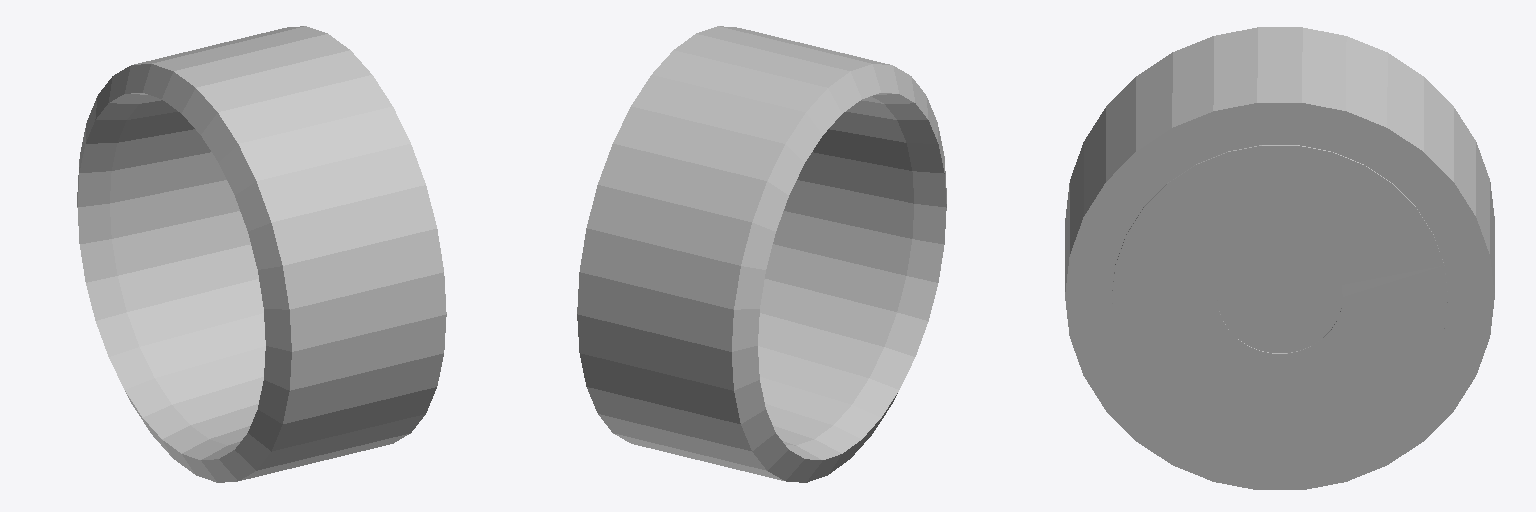
File: cerchionePosteriore1A.obj
The picture shows the model from 3 angles: view 1: azimuth 30°, elevation 25°; view 2: azimuth 150°, elevation 25°; view 3: azimuth 270°, elevation 25°; orthographic projection.
Visible parts, largest first — view 1: Cylinder36.001; view 2: Cylinder36.001; view 3: Cylinder36.001.
Boxes of the visible parts, box(x1,y1,x2,y2) form: Cylinder36.001: box(77, 26, 446, 482); Cylinder36.001: box(577, 26, 946, 482); Cylinder36.001: box(1065, 27, 1494, 489).
Size of the model in its own units: 2.98 by 6.53 by 6.56.